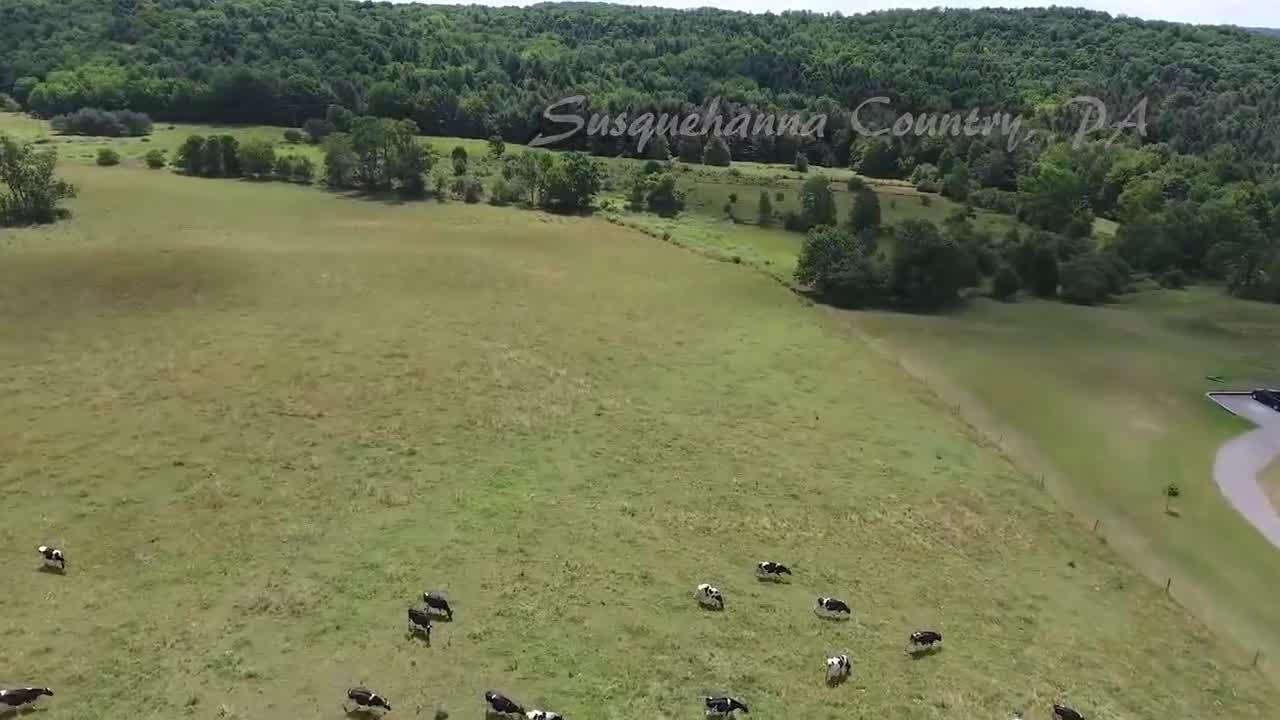cow: (0, 682, 57, 720), (341, 681, 391, 713), (701, 692, 751, 720), (483, 689, 526, 720), (421, 588, 456, 624), (904, 624, 945, 653), (692, 579, 726, 612), (404, 606, 436, 640), (754, 559, 795, 584), (35, 541, 67, 573), (810, 593, 851, 617), (826, 652, 856, 684), (1046, 699, 1084, 720), (521, 710, 569, 720)
